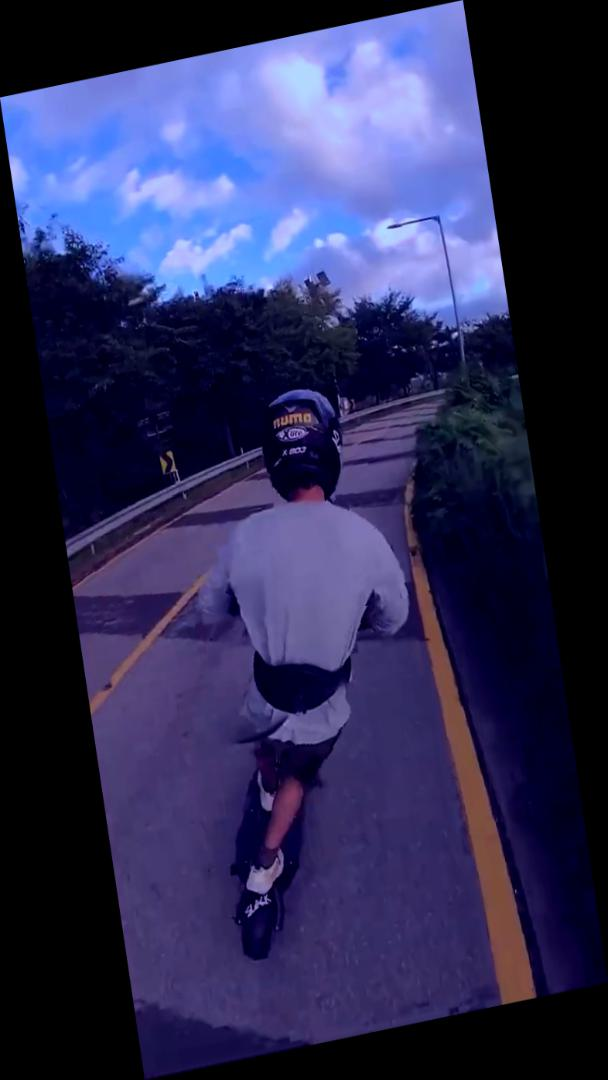helmet: (158, 370, 459, 967)
